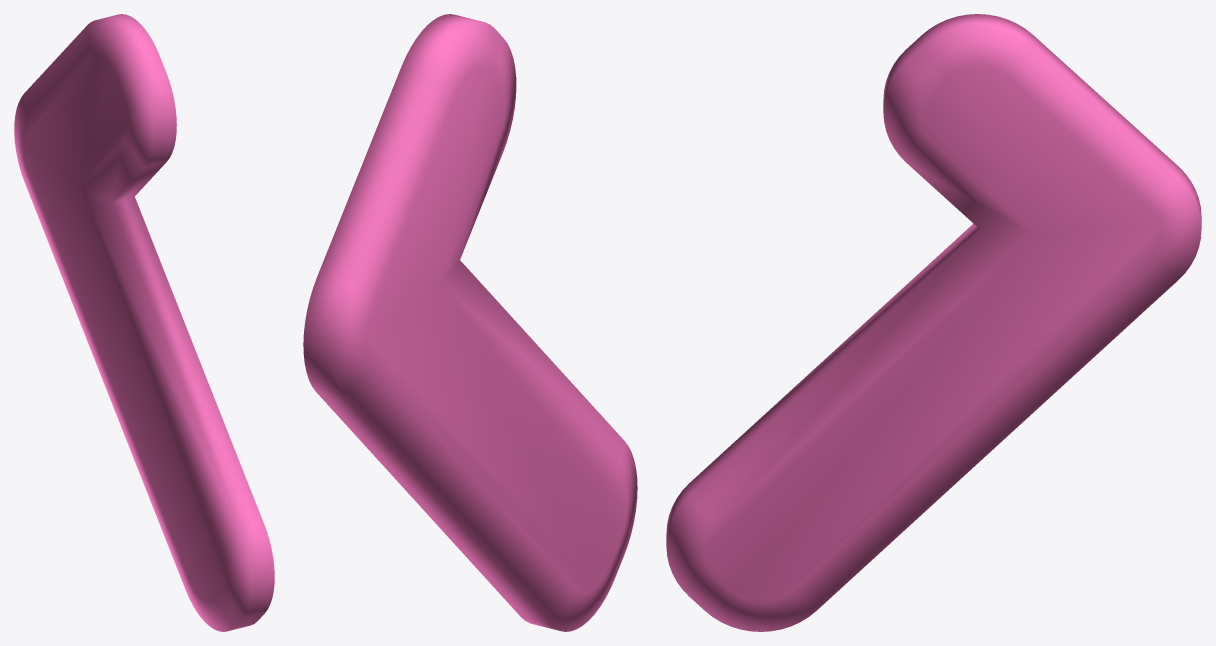
File: checkmark.glb
3 views of the same model, side by side, from view 1: azimuth 30°, elevation 25°; view 2: azimuth 150°, elevation 25°; view 3: azimuth 270°, elevation 25° (orthographic). The views are drawn at different scales.
Visible parts, largest first — view 1: Cube; view 2: Cube; view 3: Cube.
Part boxes in pixels (box(x1,y1,x2,y2)): Cube: box(14, 14, 274, 631); Cube: box(303, 14, 637, 631); Cube: box(666, 14, 1201, 631).
Bounding box in the file's own units: 0.619 × 7.43 × 5.97.
